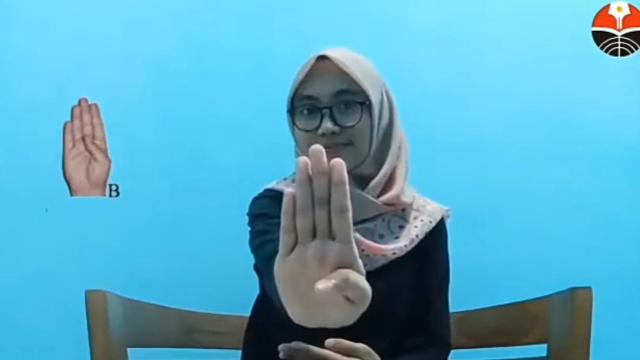B: (273, 142, 372, 330)
